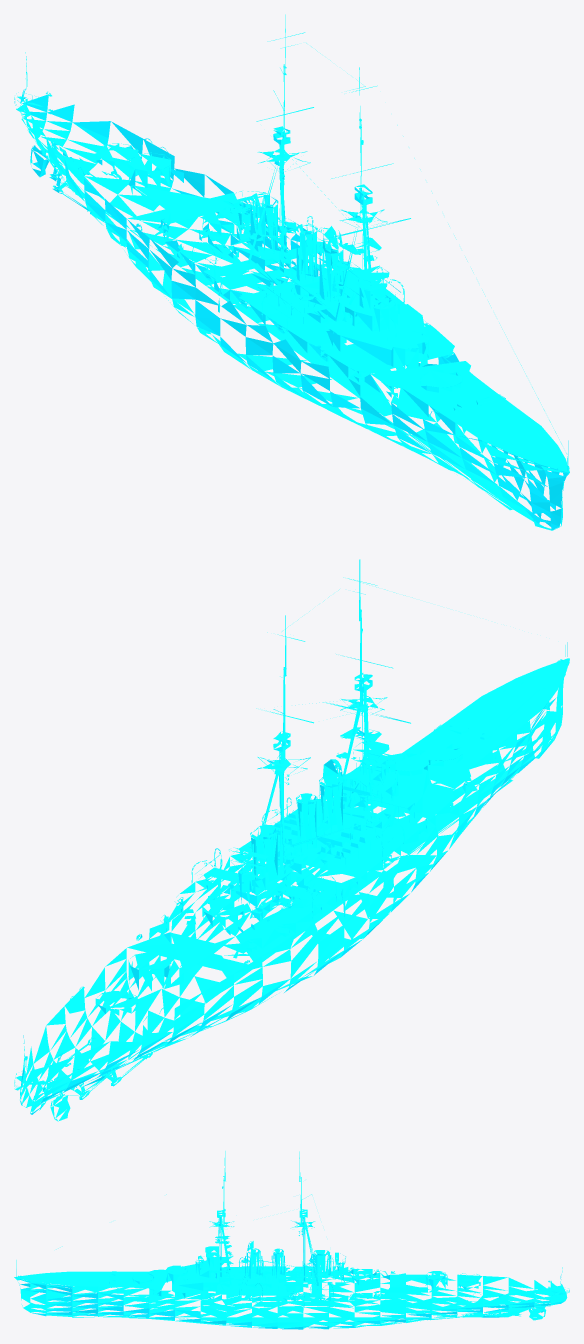
The model's file is Ishizuchi.glb.
3 views of the same model, one above another, from view 1: azimuth 30°, elevation 25°; view 2: azimuth 150°, elevation 25°; view 3: azimuth 270°, elevation 25° (orthographic). The views are drawn at different scales.
Size of the model in its own units: 1.9 by 4.77 by 14.38.
